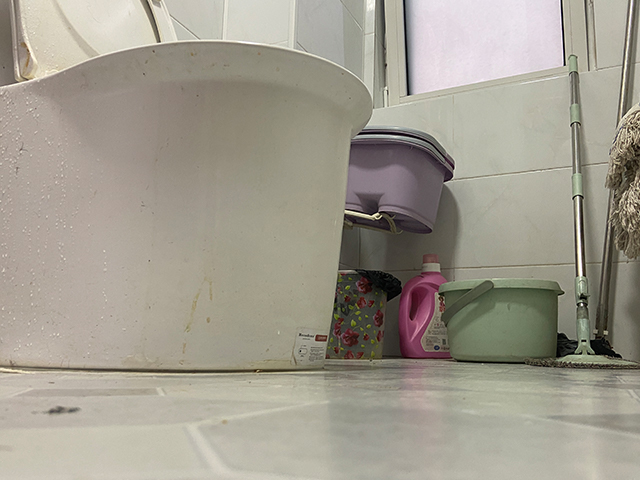closestool: (1, 1, 375, 375)
trashcan: (324, 268, 404, 362)
